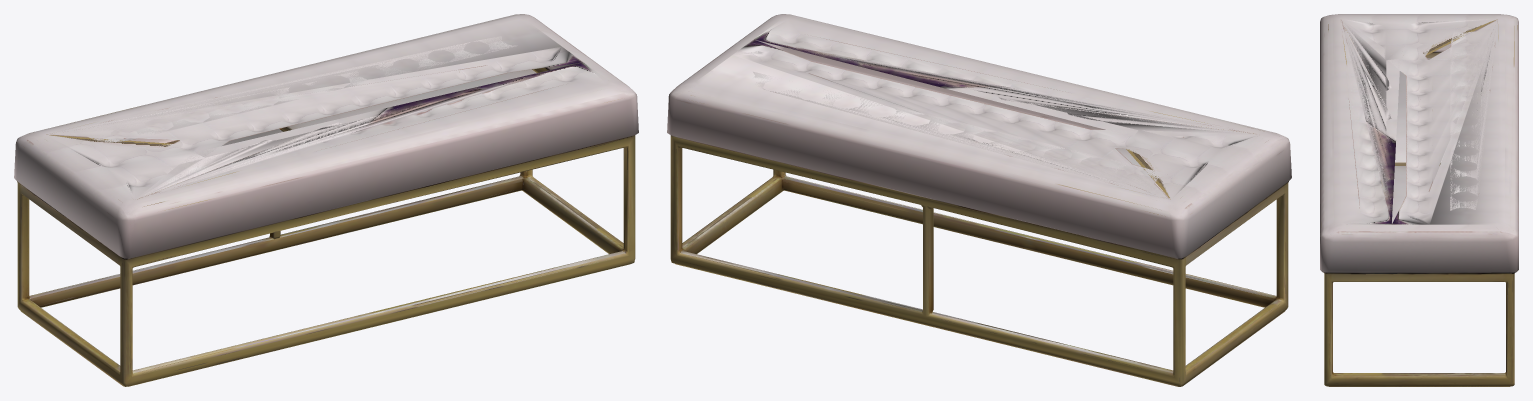
Rendered from Bench_Pink_Tufted_Velvet_17InchTall_0222185733_texture.glb.
3 views of the same model, side by side, from view 1: azimuth 30°, elevation 25°; view 2: azimuth 150°, elevation 25°; view 3: azimuth 270°, elevation 25° (orthographic). The views are drawn at different scales.
Visible parts, largest first — view 1: Mesh_0.001; view 2: Mesh_0.001; view 3: Mesh_0.001.
Part boxes in pixels (bbox=[...]): Mesh_0.001: bbox=[14, 14, 638, 386]; Mesh_0.001: bbox=[667, 14, 1291, 386]; Mesh_0.001: bbox=[1320, 14, 1518, 386].
Bounding box in the file's own units: 1.32 × 0.4318 × 0.497.
Materials: 1 (1 with a texture image).
